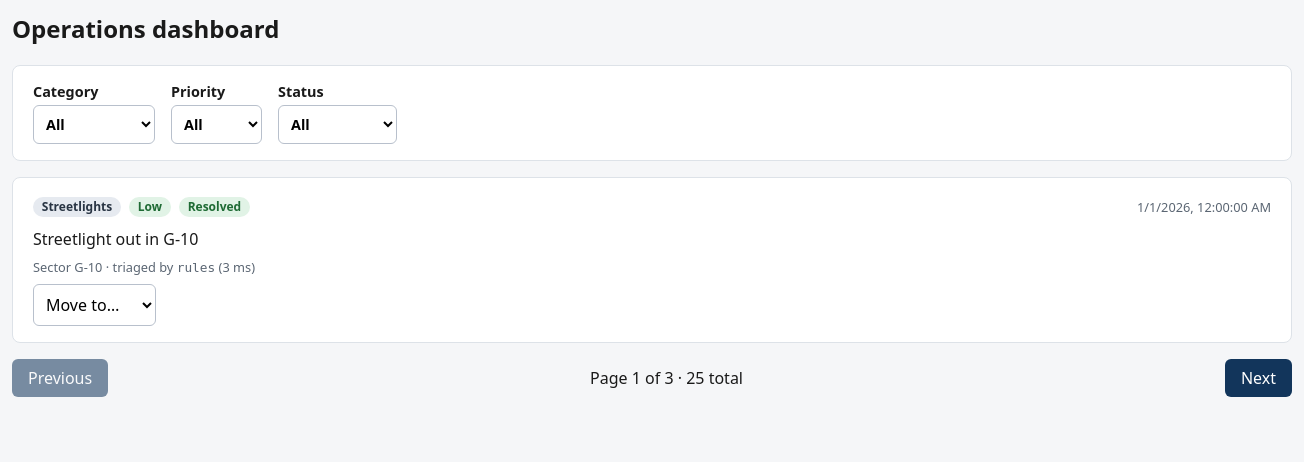
Test: DashboardPage › shows the server 409 message verbatim
Expected: the text "Streetlight out in G-10" is shown, [33,228,198,250]
Select "open" in the dropdown named "Change status of complaint abc-123" at (94, 305), box [33,284,156,326]
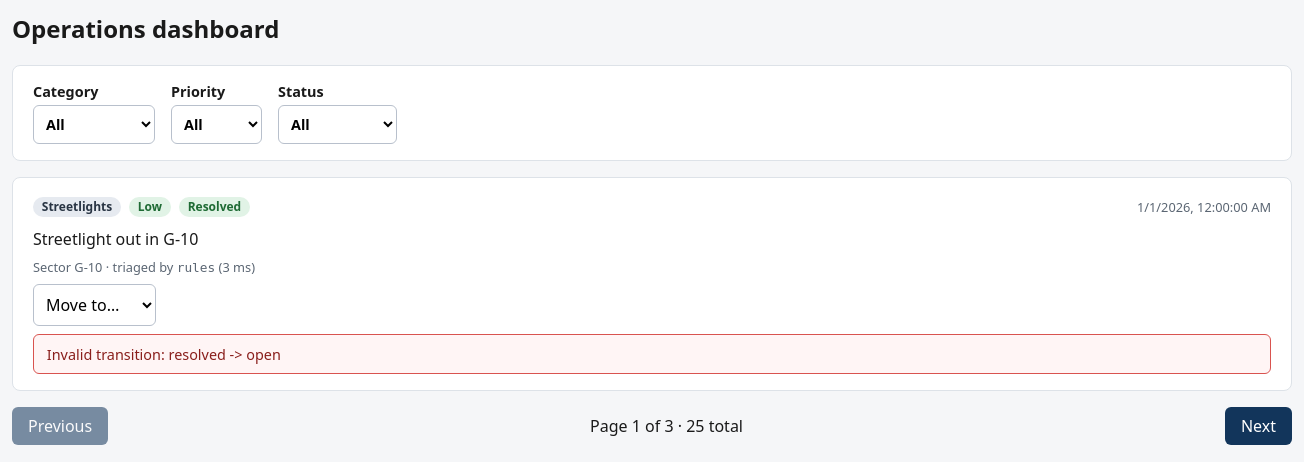
Now the message reads "Invalid transition: resolved -> open", box [47,344,281,364]
